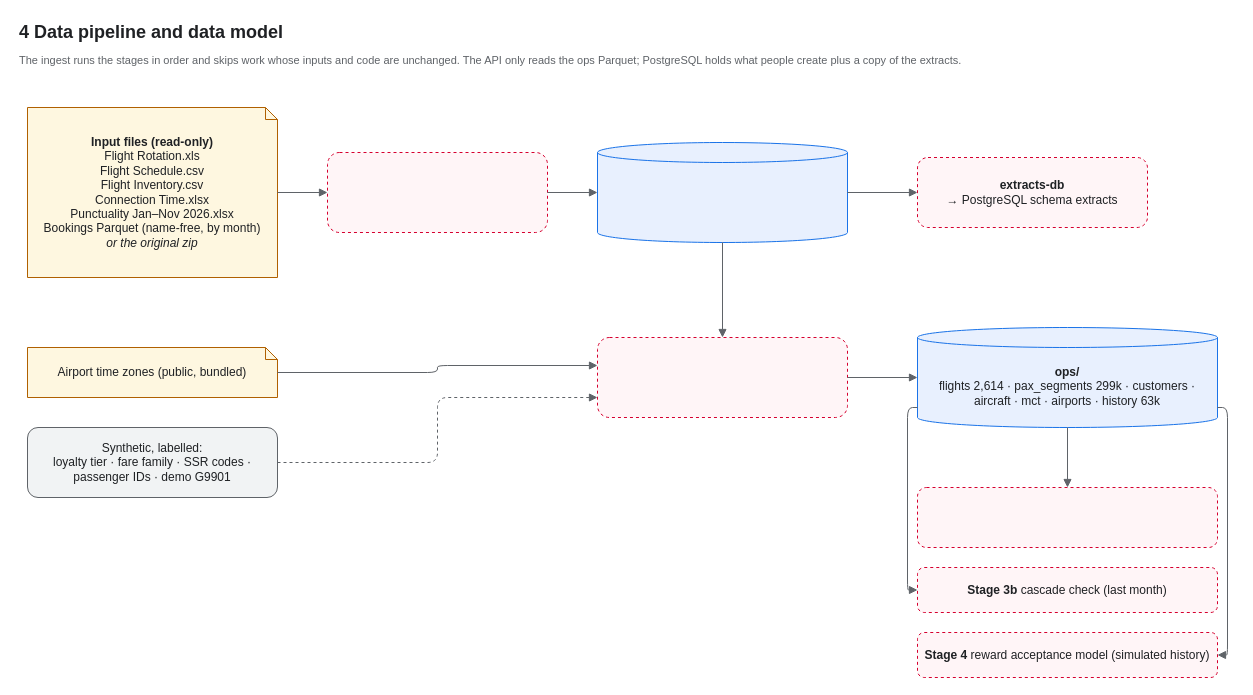
The diagram is 1253 pixels wide and 695 high, and some of its shapes have lost their labels. Each missing label, with the box of its shape:
raw/ rotation · schedule · inventory · mct · punctuality · bookings (27.9M): (596, 142, 848, 242)
Stage 1 · convert typed Parquet · names removed bookings by departure month: (326, 152, 548, 232)
Stage 2 · operating picture window 19–30 Nov · G9 only history 1 Jan – 18 Nov: (596, 336, 848, 418)
Stage 3 delay-risk model flight_risk · connection_risk · model card: (916, 486, 1218, 548)
